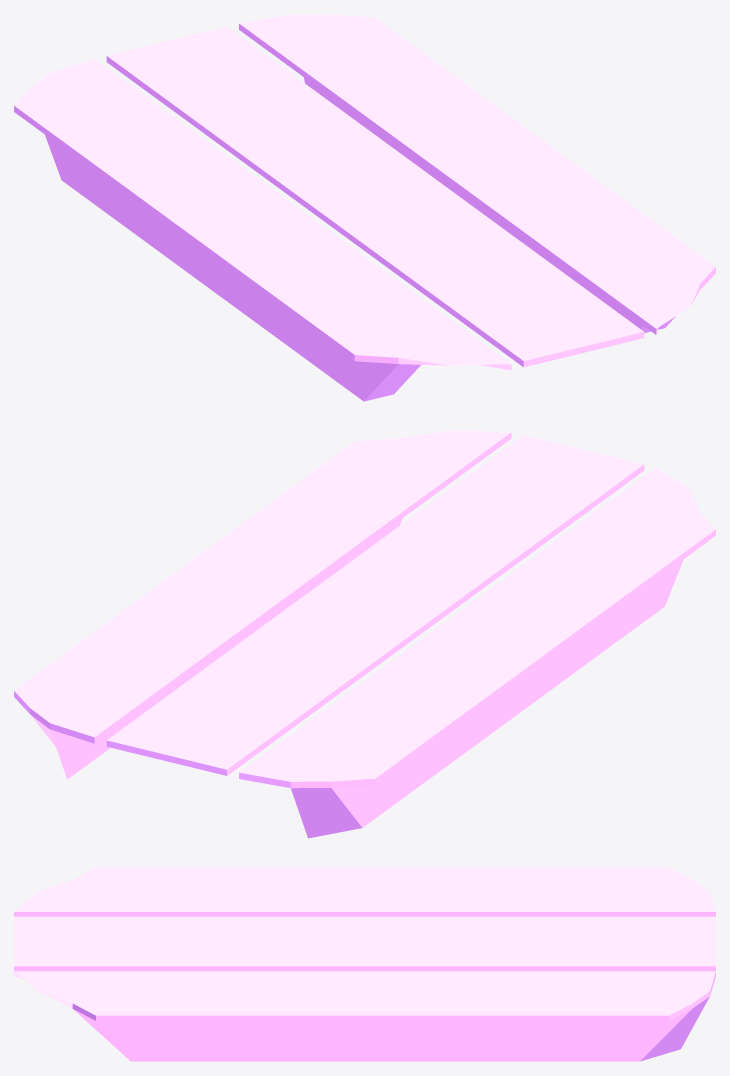
Rendered from sled_broken.glb.
3 views of the same model, one above another, from view 1: azimuth 30°, elevation 25°; view 2: azimuth 150°, elevation 25°; view 3: azimuth 270°, elevation 25° (orthographic). The views are drawn at different scales.
Parts seen in each view (by area): view 1: sled_broken_front, sled_broken_back; view 2: sled_broken_back, sled_broken_front; view 3: sled_broken_back, sled_broken_front.
Boxes of the visible parts, x1,y1,x2,y2 form: sled_broken_front: (184,142,715,401); sled_broken_back: (14,14,545,290); sled_broken_back: (14,566,545,838); sled_broken_front: (185,430,715,716); sled_broken_back: (365,867,715,1061); sled_broken_front: (14,867,385,1061).
Size of the model in its own units: 6 by 1.1 by 12.
